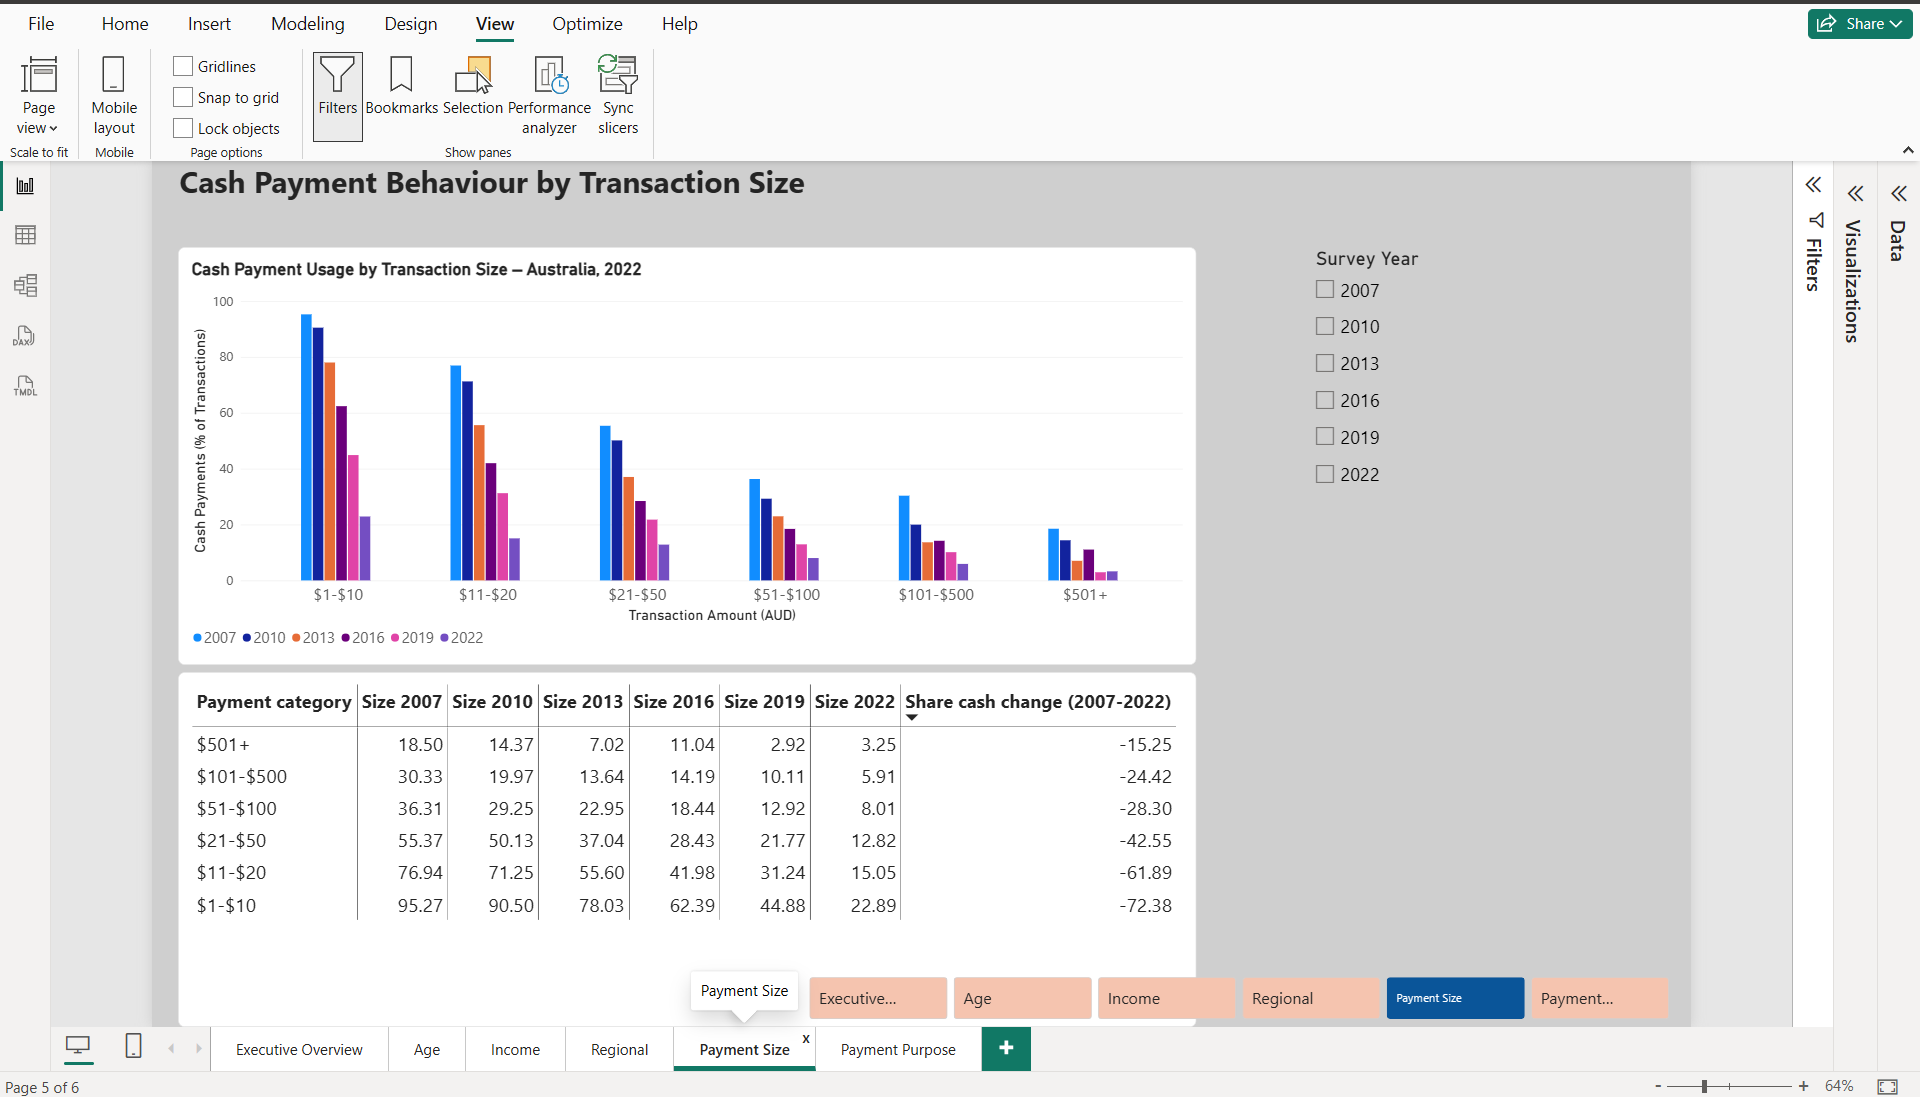

Layout of this report page (visuals, bound fields, positions):
{"tool":"powerbi","page":{"name":"Payment Size","canvas":[1920,1080],"ordinal":4},"visuals":[{"type":"clusteredColumnChart","title":"Cash Payment Usage by Transaction Size – Australia, 2022","fields":{"Category":["Payment size.Payment category"],"Series":["Payment size.Survey Year"],"Y":["Avg(Payment size.Payment Share)"]},"box":[32.9,107,1270,520.8],"z":0},{"type":"tableEx","fields":{"Values":["Payment size.Payment category","Payment size.Size 2007","Payment size.Size 2010","Payment size.Size 2013","Payment size.Size 2016","Payment size.Size 2019","Payment size.Size 2022","Payment size.Share cash change (2007-2022)"]},"box":[32.9,638.1,1270,442.5],"z":1000},{"type":"textbox","box":[33.6,0,1046.1,108],"z":5001},{"type":"pageNavigator","box":[819.9,1018.4,1076.7,52.5],"z":5002},{"type":"slicer","fields":{"Values":["Payment size.Survey Year"]},"box":[1442.9,107,253.2,520.8],"z":5003}]}

Visuals, with their boxes on the page's 1920x1080 design canvas (x1, y1, x2, y2). These are canvas units, not pixel positions in the 1920x1097 screenshot, which may show the page scaled, cropped or inside an application window:
"Cash Payment Usage by Transaction Size – Australia, 2022" clusteredColumnChart: [x1=33, y1=107, x2=1303, y2=628]
tableEx - Payment size.Payment category x Payment size.Size 2007: [x1=33, y1=638, x2=1303, y2=1081]
textbox: [x1=34, y1=0, x2=1080, y2=108]
pageNavigator: [x1=820, y1=1018, x2=1897, y2=1071]
slicer - Payment size.Survey Year: [x1=1443, y1=107, x2=1696, y2=628]
